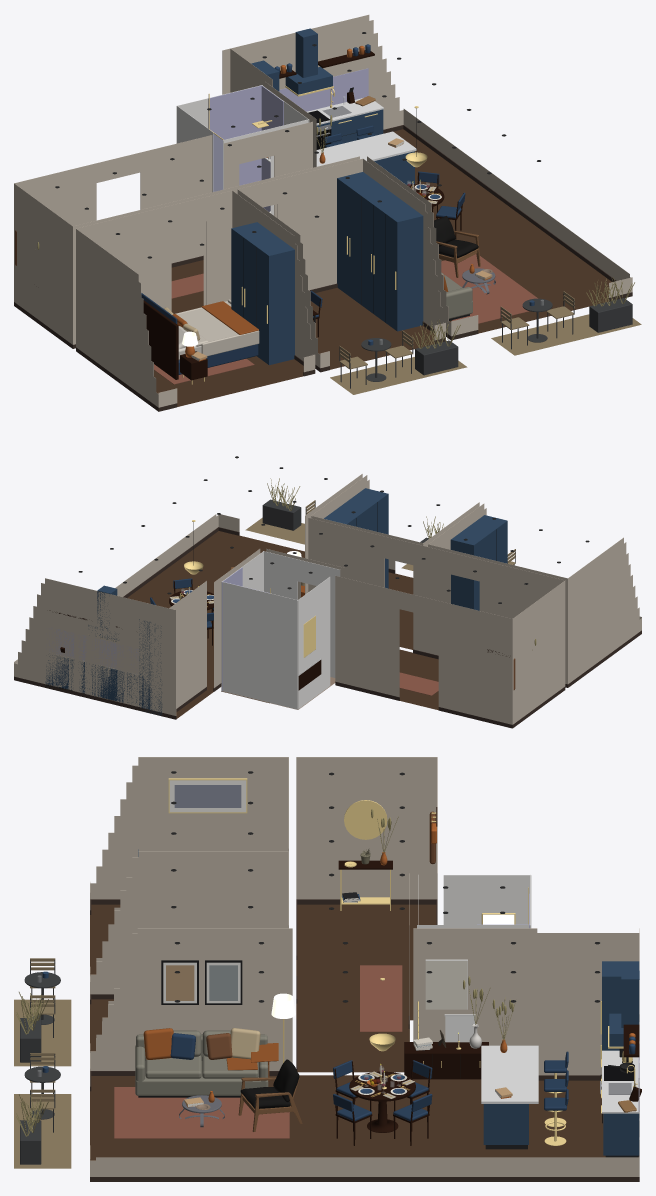
File: unit-2.C-lisboa.glb
The picture shows the model from 3 angles, top to bottom: view 1: azimuth 30°, elevation 25°; view 2: azimuth 150°, elevation 25°; view 3: azimuth 270°, elevation 25°; orthographic projection. The views are drawn at different scales.
Visible parts, largest first — view 1: int-wall, int-floor, int-joineryTall, int-showerWall, int-outdoor, int-rug, int-deck, int-joinery, int-wood, int-skirting, int-worktop, int-bathWall (+12 smaller); view 2: int-wall, int-bathWall, int-floor, int-joineryTall, int-skirting, int-joinery, int-hallFloor, int-outdoor, int-splash, int-deck, int-metal, int-wood (+2 smaller); view 3: int-wall, int-floor, int-hallFloor, int-rug, int-wood, int-sofa, int-deck, int-joinery, int-skirting, int-bathWall, int-worktop, int-metal (+23 smaller).
Part boxes in pixels (left/top/right/bottom): int-wall: left=14, top=14, right=632, bottom=407; int-floor: left=154, top=129, right=611, bottom=406; int-joineryTall: left=231, top=60, right=423, bottom=365; int-showerWall: left=208, top=85, right=283, bottom=211; int-outdoor: left=339, top=294, right=632, bottom=388; int-rug: left=154, top=254, right=537, bottom=384; int-deck: left=330, top=314, right=641, bottom=394; int-joinery: left=285, top=28, right=414, bottom=184; int-wood: left=143, top=50, right=444, bottom=380; int-skirting: left=14, top=125, right=632, bottom=411; int-worktop: left=264, top=98, right=416, bottom=166; int-bathWall: left=176, top=85, right=309, bottom=215; int-wall: left=14, top=474, right=641, bottom=724; int-bathWall: left=221, top=551, right=340, bottom=709; int-floor: left=127, top=531, right=413, bottom=718; int-joineryTall: left=139, top=488, right=507, bottom=715; int-skirting: left=14, top=527, right=641, bottom=728; int-joinery: left=45, top=585, right=138, bottom=703; int-hallFloor: left=399, top=649, right=438, bottom=710; int-outdoor: left=262, top=499, right=515, bottom=565; int-splash: left=49, top=628, right=138, bottom=668; int-deck: left=245, top=517, right=413, bottom=570; int-metal: left=88, top=520, right=315, bottom=657; int-wood: left=49, top=589, right=509, bottom=690; int-wall: left=90, top=757, right=639, bottom=1176; int-floor: left=90, top=904, right=605, bottom=1160; int-hallFloor: left=296, top=904, right=436, bottom=1072; int-rug: left=114, top=965, right=402, bottom=1138; int-wood: left=338, top=807, right=641, bottom=1132; int-sofa: left=135, top=1030, right=268, bottom=1095; int-deck: left=14, top=999, right=71, bottom=1168; int-joinery: left=483, top=970, right=639, bottom=1155; int-skirting: left=90, top=899, right=639, bottom=1181; int-bathWall: left=417, top=874, right=531, bottom=928; int-worktop: left=444, top=1014, right=639, bottom=1113; int-metal: left=168, top=778, right=637, bottom=1113.
Size of the model in its own units: 10.9 by 2.8 by 10.39.
